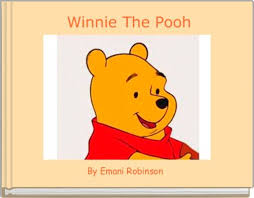Winnie: (82, 40, 178, 152)
